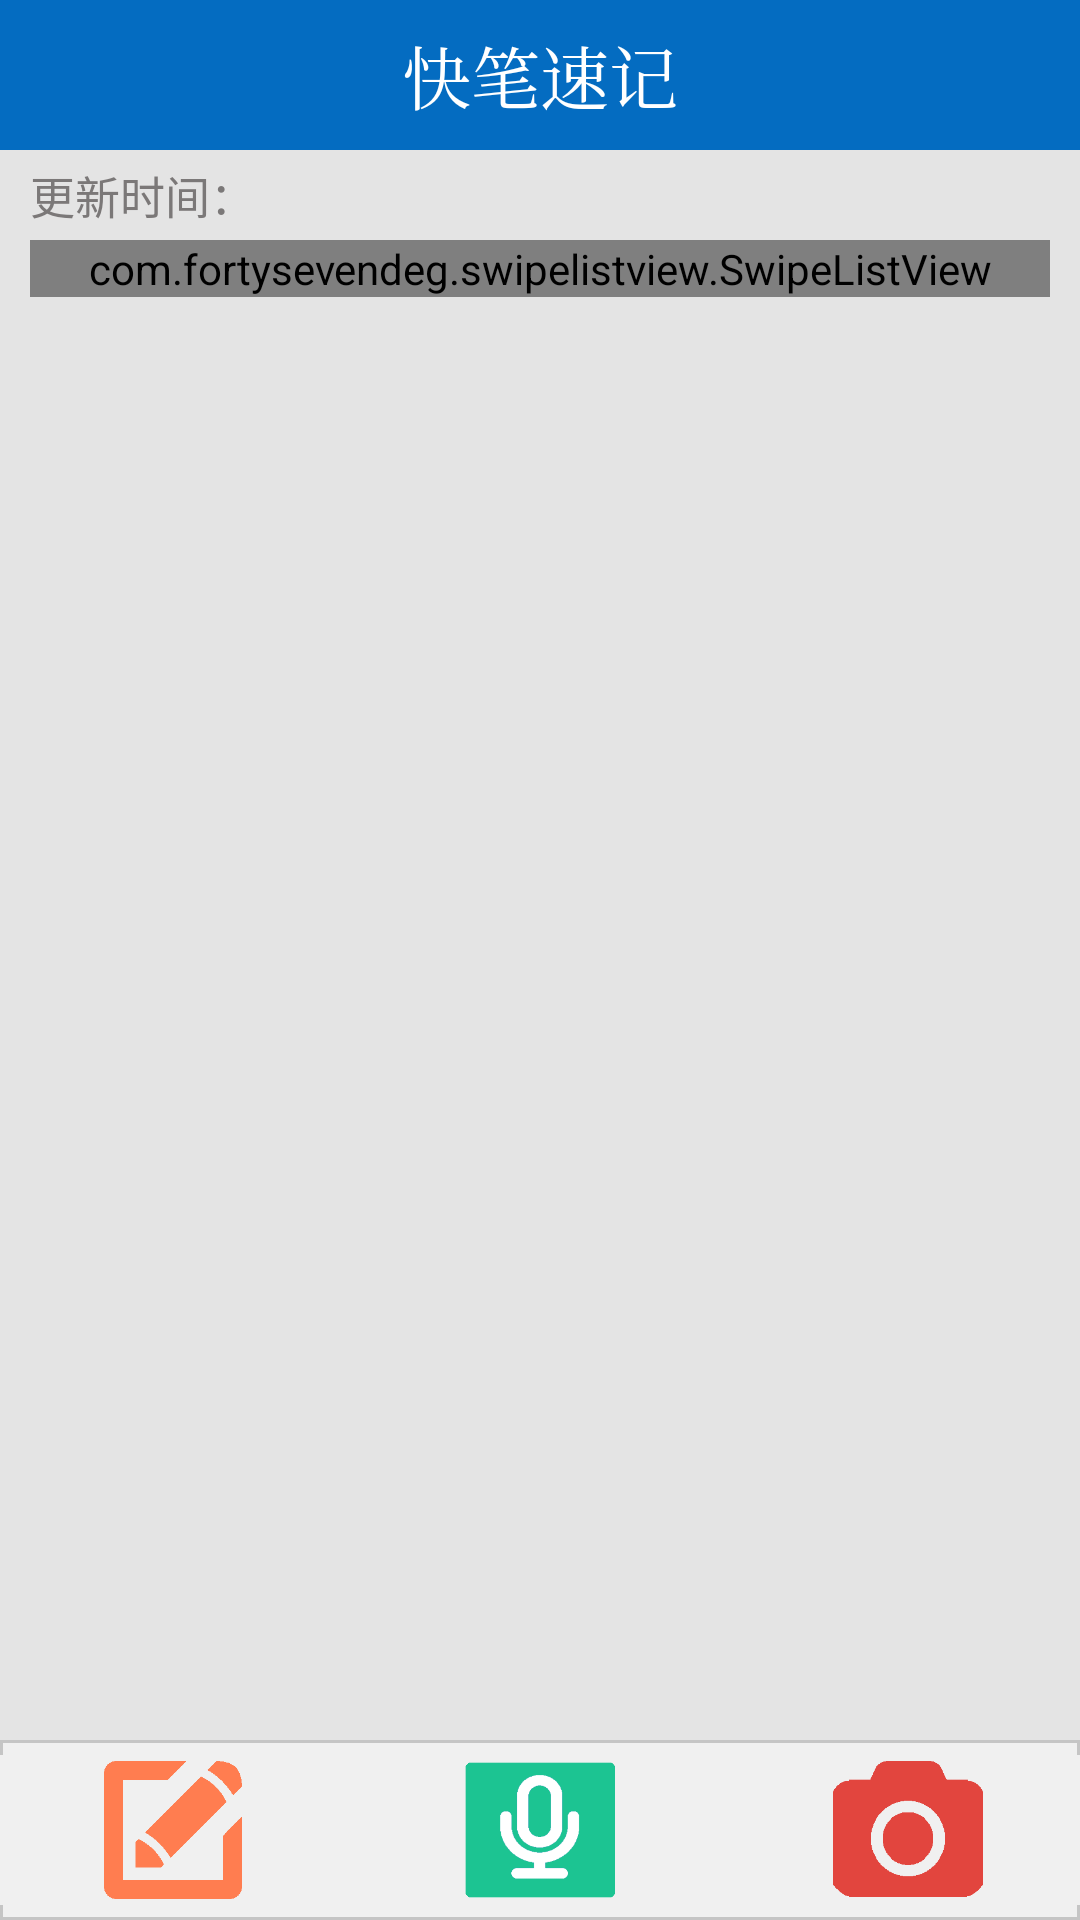

Icon click points for this 1080px×1920px phone screenshot, format point (x, y):
add picture: point (908, 1829)
add text: point (173, 1830)
